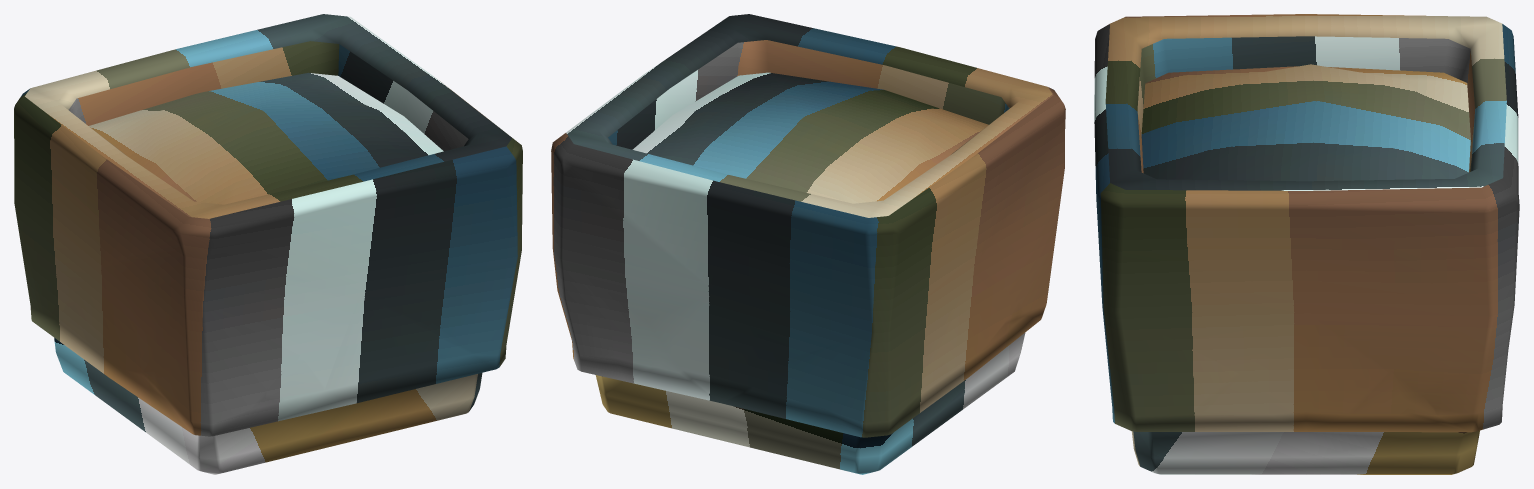
The model's file is Prop_AP19CrystalJar_EMPTY.glb.
The picture shows the model from 3 angles, left to right: view 1: azimuth 30°, elevation 25°; view 2: azimuth 150°, elevation 25°; view 3: azimuth 270°, elevation 25°; orthographic projection. The views are drawn at different scales.
Parts seen in each view (by area): view 1: Prop_AP19CrystalJar_EMPTY; view 2: Prop_AP19CrystalJar_EMPTY; view 3: Prop_AP19CrystalJar_EMPTY.
Boxes of the visible parts, left/top/right/bottom form: Prop_AP19CrystalJar_EMPTY: left=14, top=14, right=522, bottom=474; Prop_AP19CrystalJar_EMPTY: left=551, top=14, right=1065, bottom=474; Prop_AP19CrystalJar_EMPTY: left=1094, top=14, right=1519, bottom=474.
Bounding box in the file's own units: 0.943 × 0.7281 × 0.9038.
Materials: 1 (1 with a texture image).
